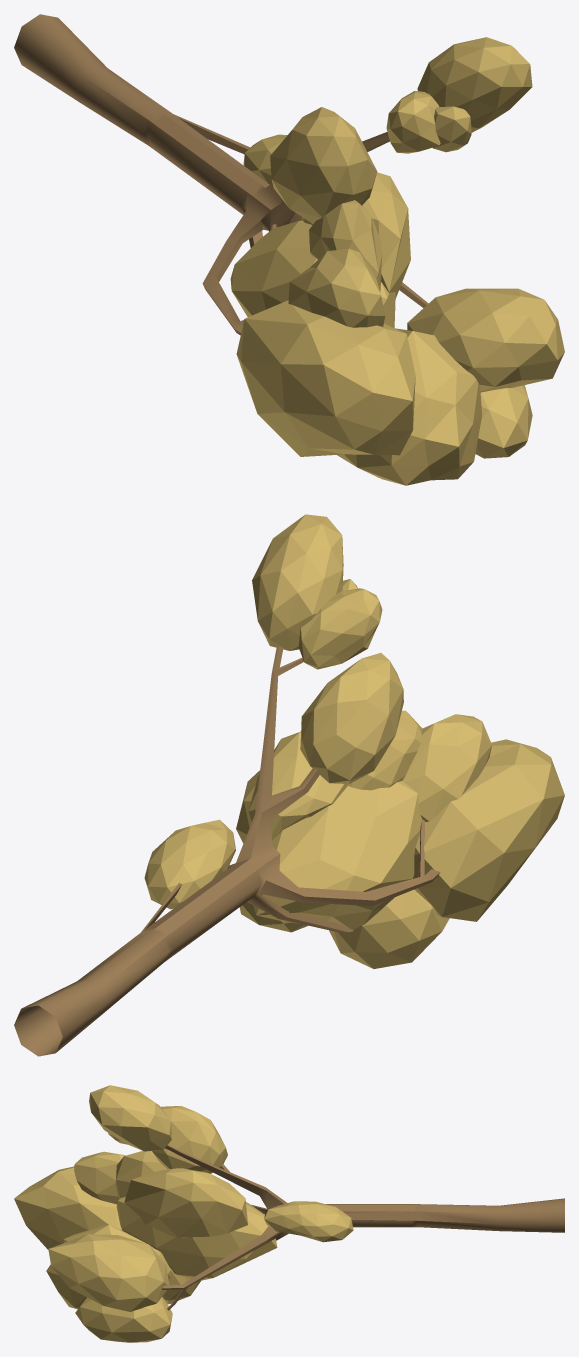
Rendered from tree-3-temperate.glb.
The picture shows the model from 3 angles, top to bottom: view 1: azimuth 30°, elevation 25°; view 2: azimuth 150°, elevation 25°; view 3: azimuth 270°, elevation 25°; orthographic projection. The views are drawn at different scales.
Parts seen in each view (by area): view 1: Tree 3_1; view 2: Tree 3_1; view 3: Tree 3_1.
Part boxes in pixels (x1,y1,x2,y2): Tree 3_1: (14,14,564,485); Tree 3_1: (14,514,564,1056); Tree 3_1: (14,1085,564,1342).
Bounding box in the file's own units: 5.08 × 6.88 × 13.63.
